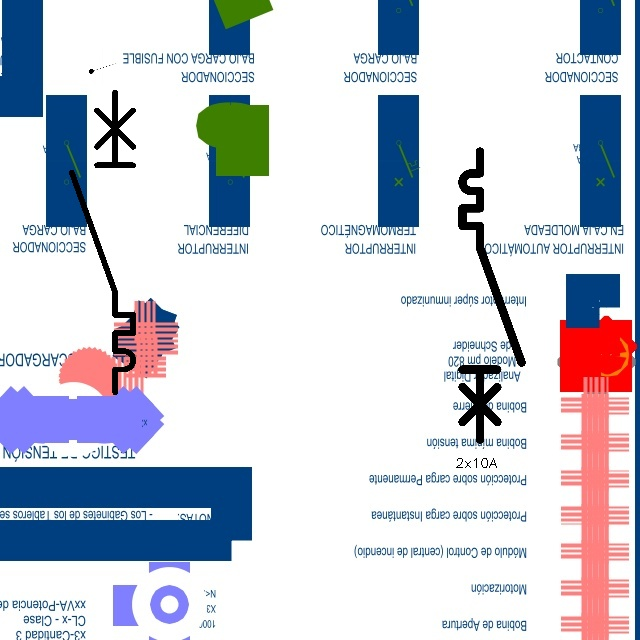interruptor_termomagnetico: (64, 84, 141, 399), (455, 144, 529, 447)
